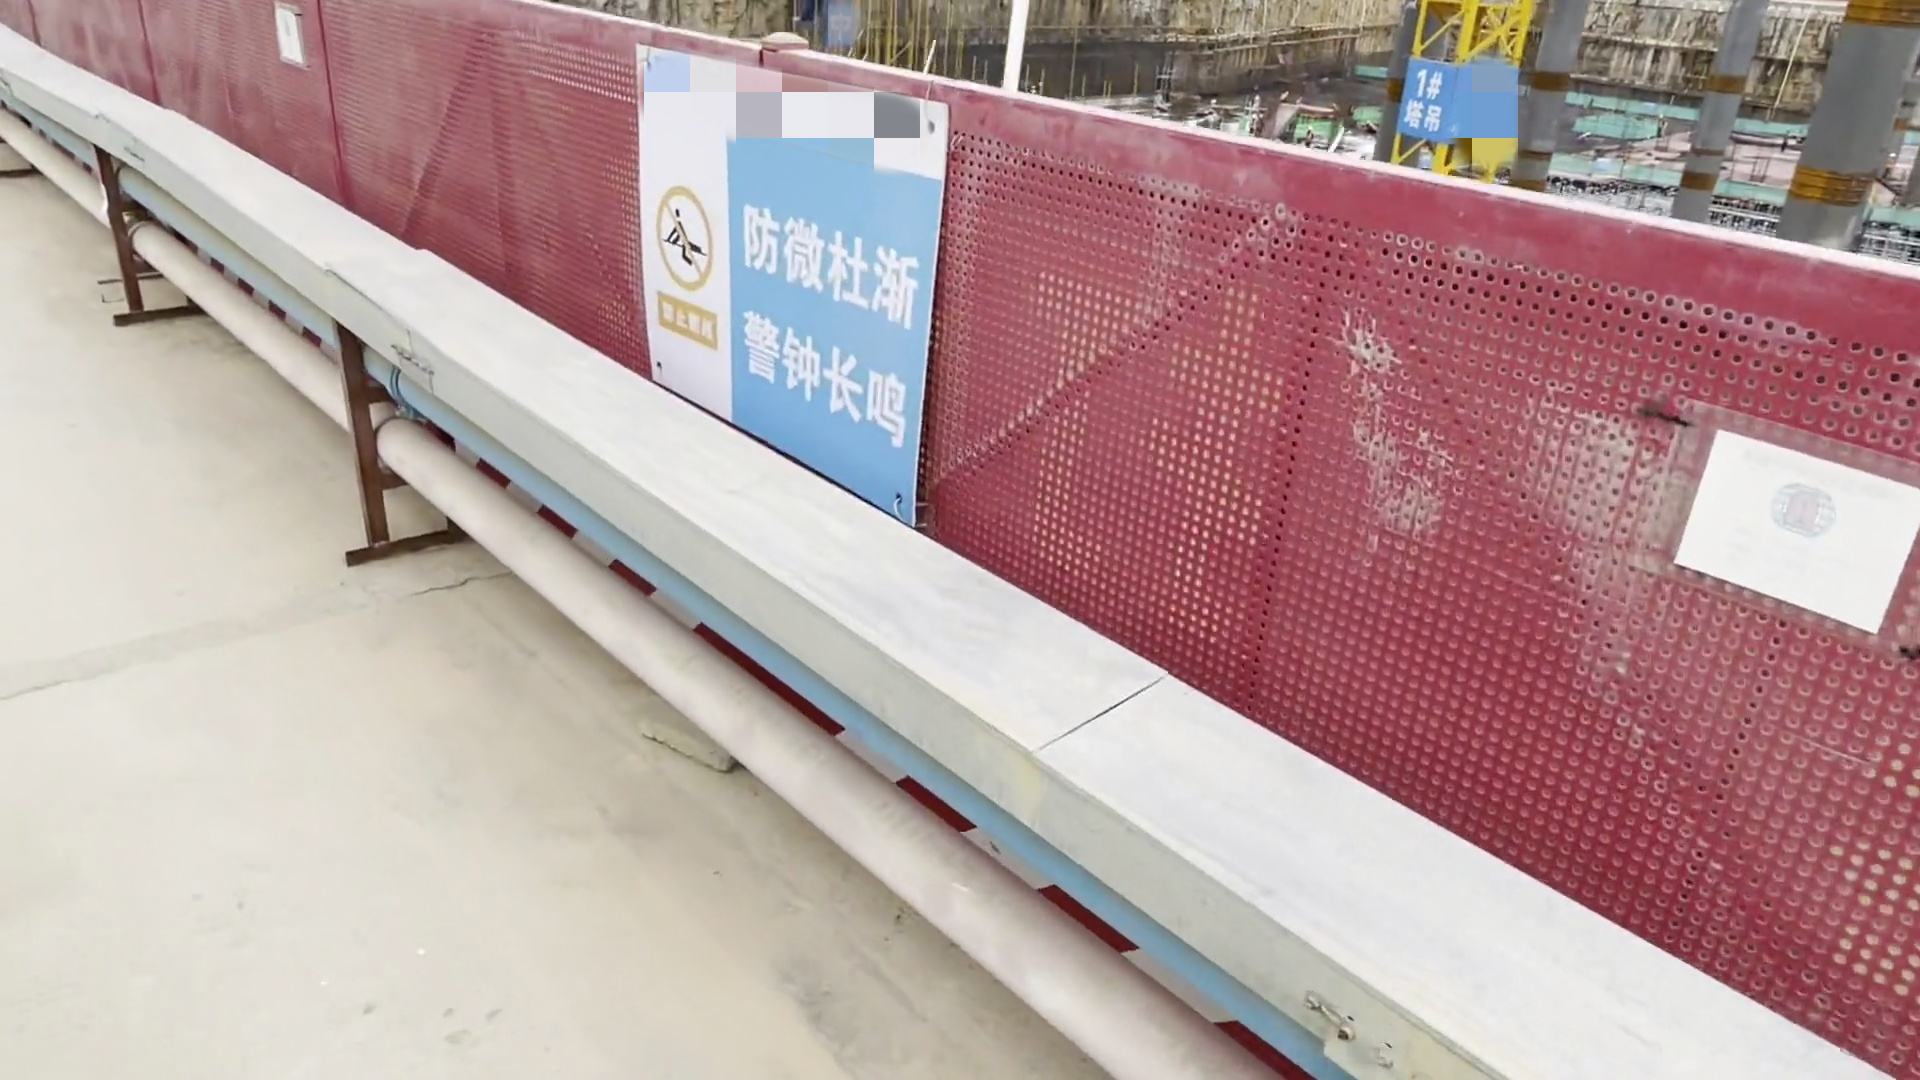slogan: (613, 33, 948, 542)
